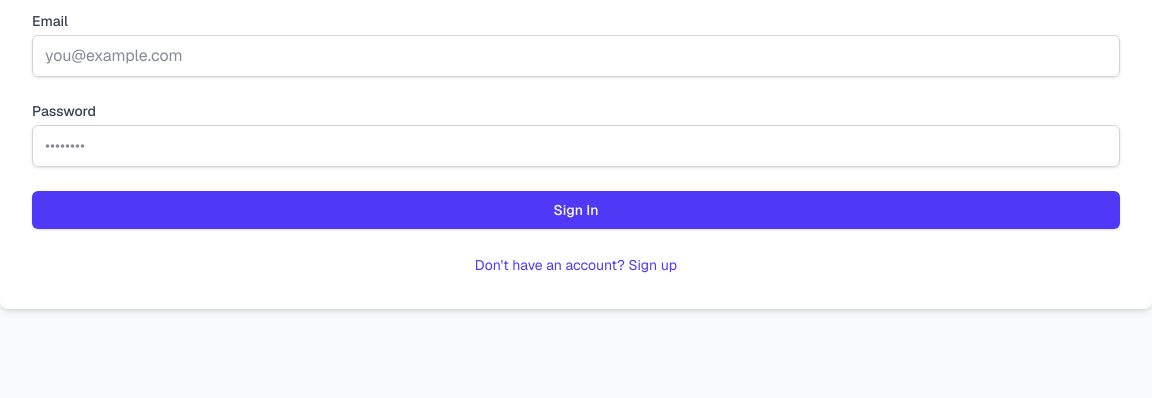
Test: LoginForm › should handle sign in error
Type "test@example.com" into the field labelled "Email".
click(576, 56); type("test@example.com")  # box [32,35,1120,77]
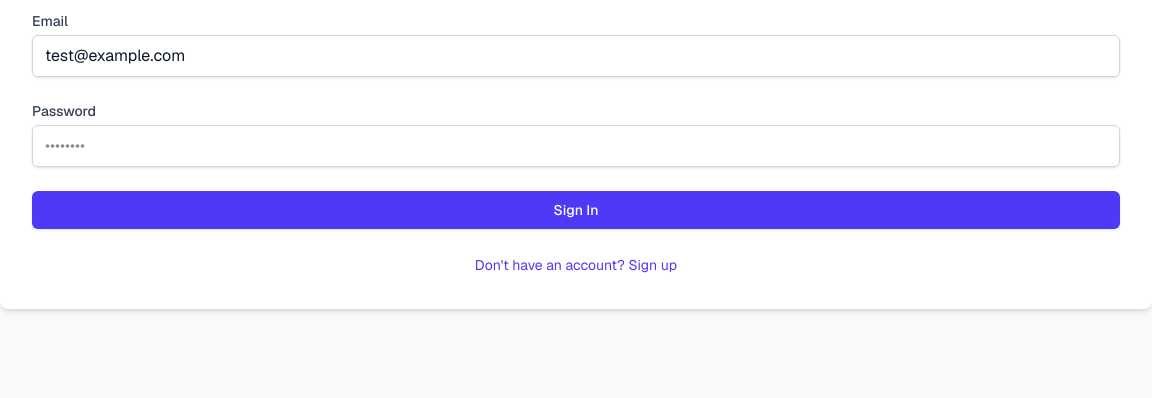
Type "wrongpassword" into the password field labelled "Password".
click(576, 146); type("wrongpassword")  # box [32,125,1120,167]
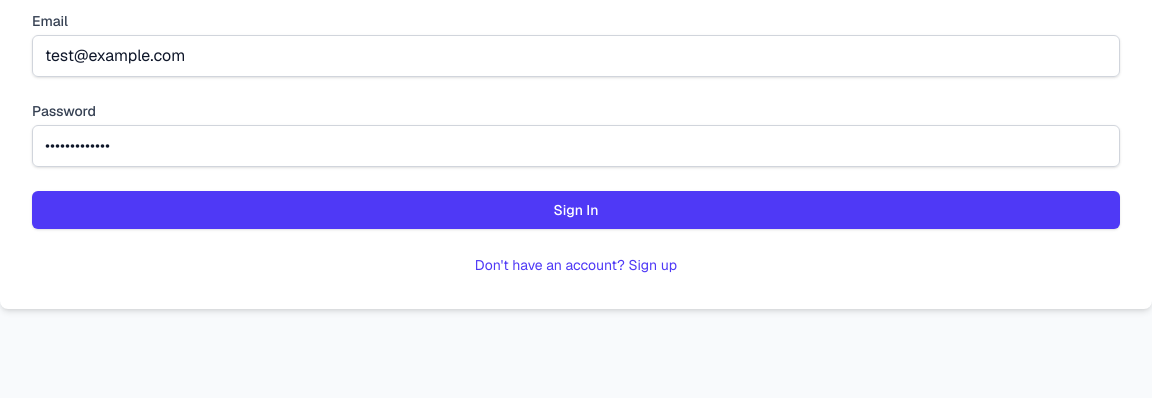
Click the button "Sign In".
click(576, 210)  # box [32,191,1120,229]
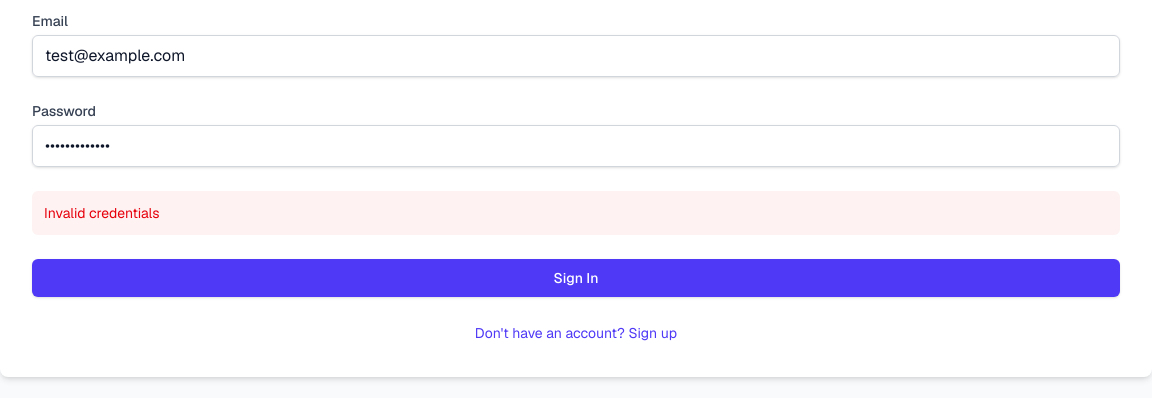
Now the text "Invalid credentials" is shown, box [32,191,1120,235]
